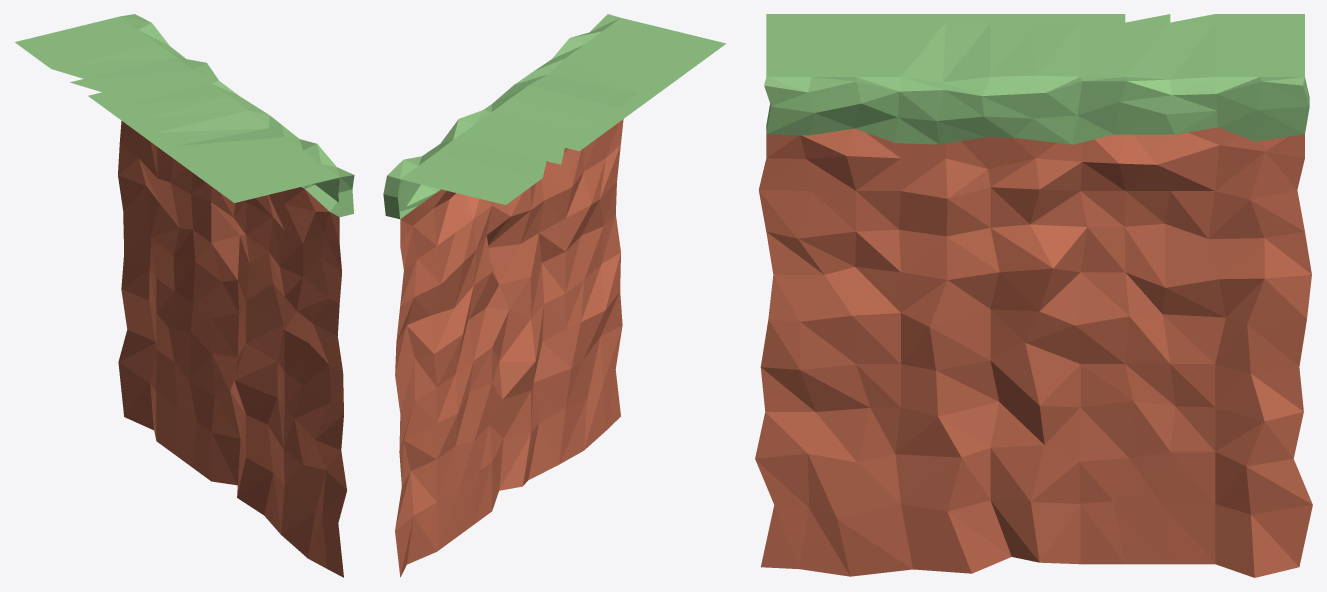
File: ground.fbx
3 renders of one model, left to right at view 1: azimuth 30°, elevation 25°; view 2: azimuth 150°, elevation 25°; view 3: azimuth 270°, elevation 25°, orthographic. The views are drawn at different scales.
Parts seen in each view (by area): view 1: Ground; view 2: Ground; view 3: Ground.
Boxes of the visible parts, x1,y1,x2,y2 form: Ground: [15, 14, 354, 577]; Ground: [383, 14, 726, 577]; Ground: [755, 14, 1312, 577].
Bounding box in the file's own units: 328 × 1029 × 1036.
